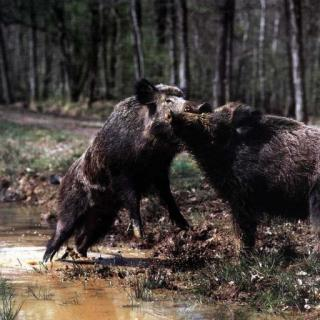Pig: (49, 63, 194, 292), (171, 77, 320, 235)
